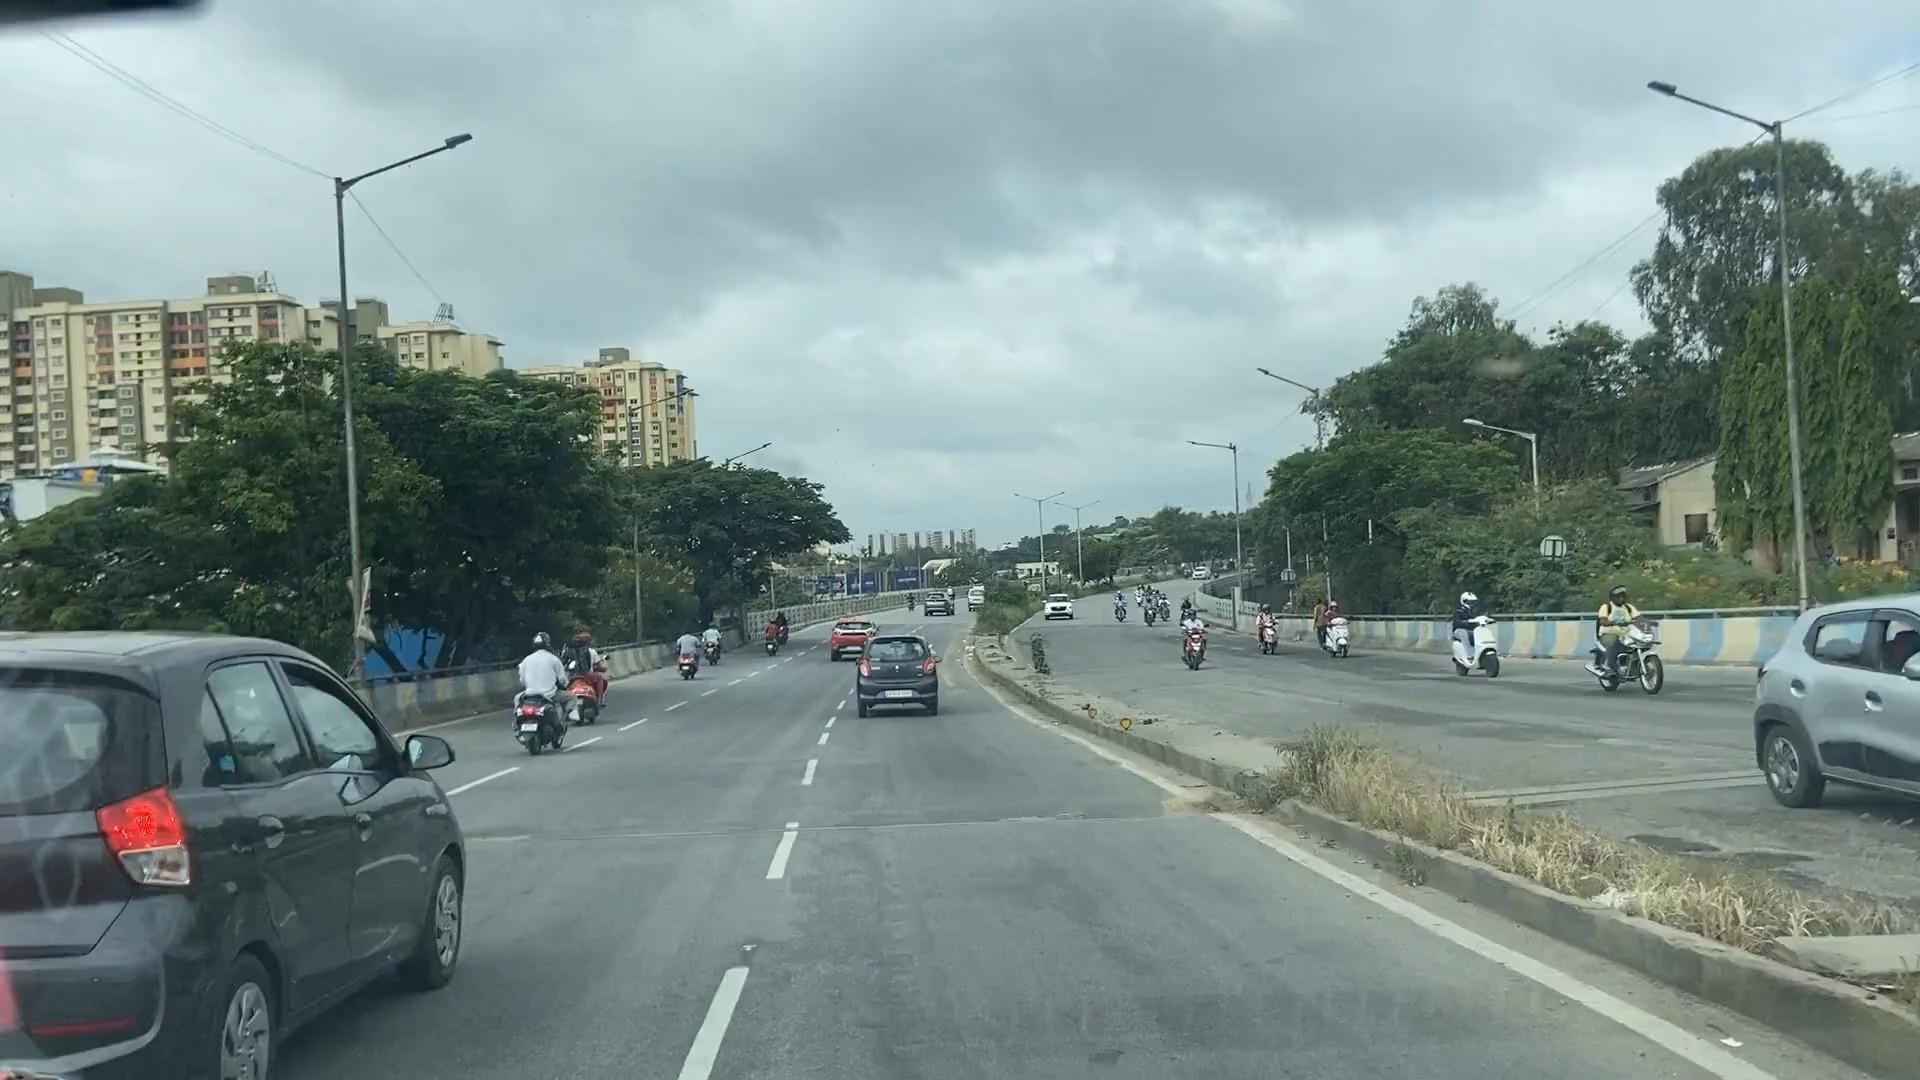LMV: (7, 634, 462, 1010), (855, 636, 922, 707), (520, 638, 562, 741)
UnsurfacedRoad: (798, 804, 1218, 835)
